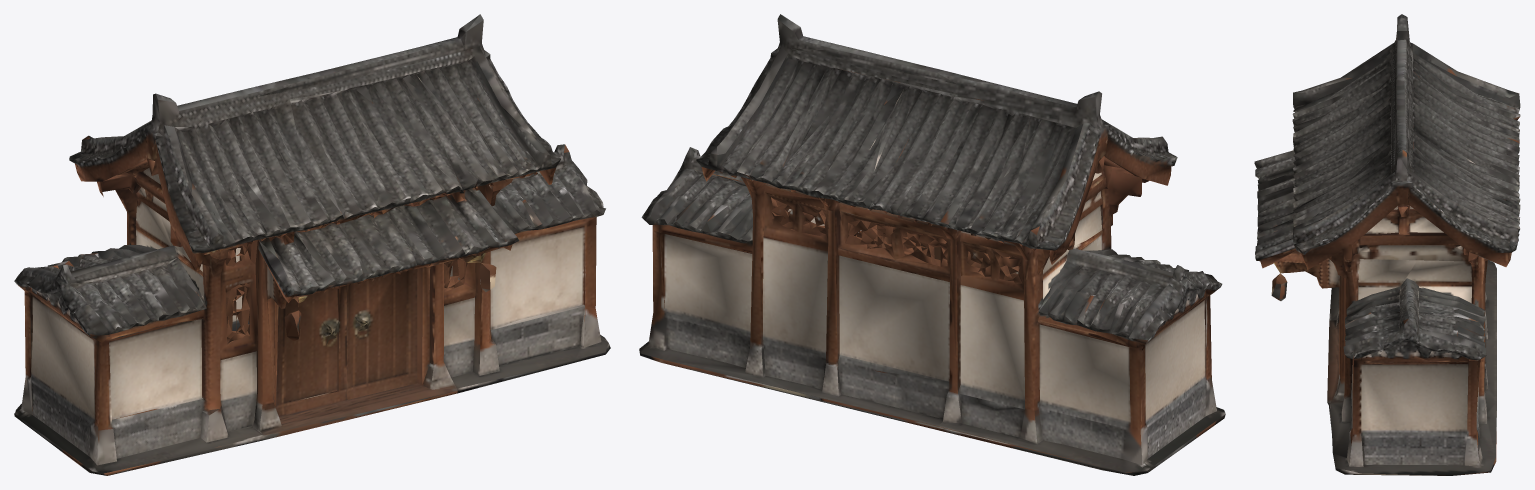
File: 17_Wealthy_Residence_Gatehouse_LOD2.fbx
3 renders of one model, left to right at view 1: azimuth 30°, elevation 25°; view 2: azimuth 150°, elevation 25°; view 3: azimuth 270°, elevation 25°, orthographic. The views are drawn at different scales.
Visible parts, largest first — view 1: 17_Wealthy_Residence_Gatehouse_L2; view 2: 17_Wealthy_Residence_Gatehouse_L2; view 3: 17_Wealthy_Residence_Gatehouse_L2.
Part boxes in pixels (<box>): 17_Wealthy_Residence_Gatehouse_L2: <box>14,14,610,475</box>; 17_Wealthy_Residence_Gatehouse_L2: <box>639,14,1225,475</box>; 17_Wealthy_Residence_Gatehouse_L2: <box>1254,14,1520,475</box>.
Size of the model in its own units: 10.65 by 6.5 by 5.5.
